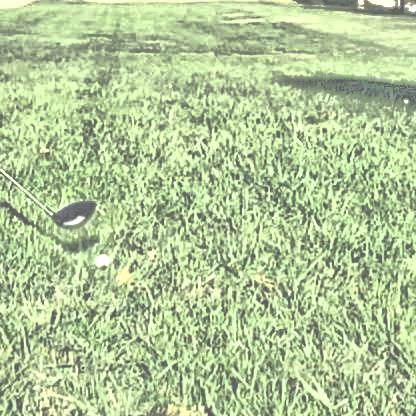golfball: (90, 250, 107, 267)
